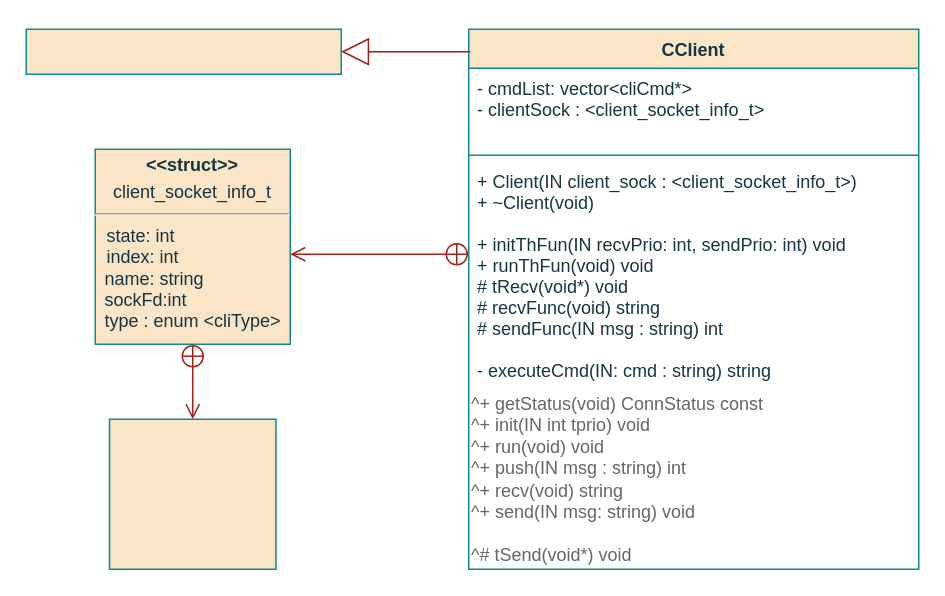
The diagram is 945 pixels wide and 596 high, and some of its shapes have lost their labels. Here are the shapes that lost their labels. From the top down, the centre of each, then its label:
At [183,51]: "CCommunication".
At [192,493]: "<<enumeration>> cliType GATEWAY WEBSITE APPLICATION".
